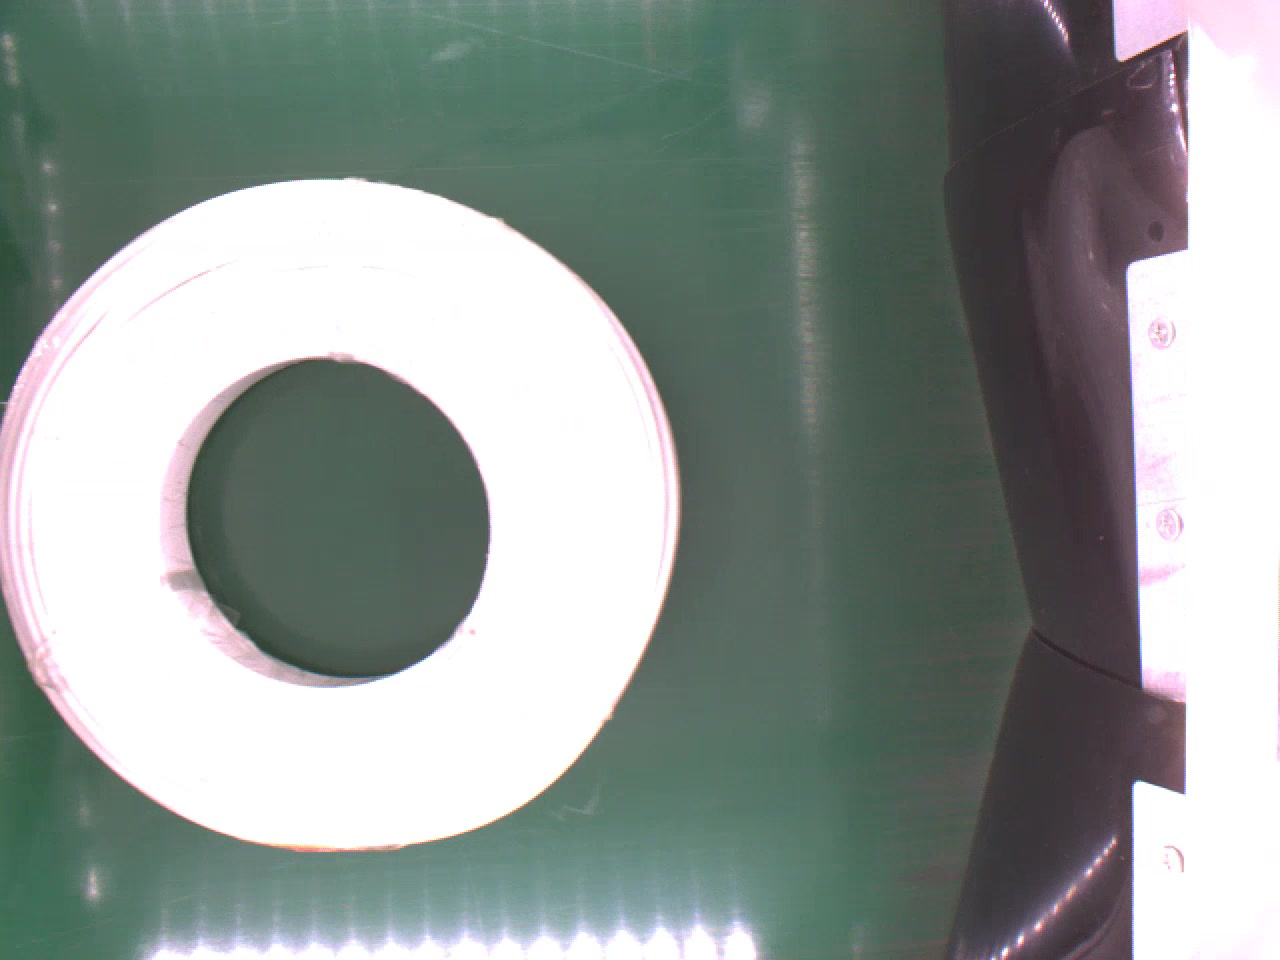white: (0, 172, 688, 859)
